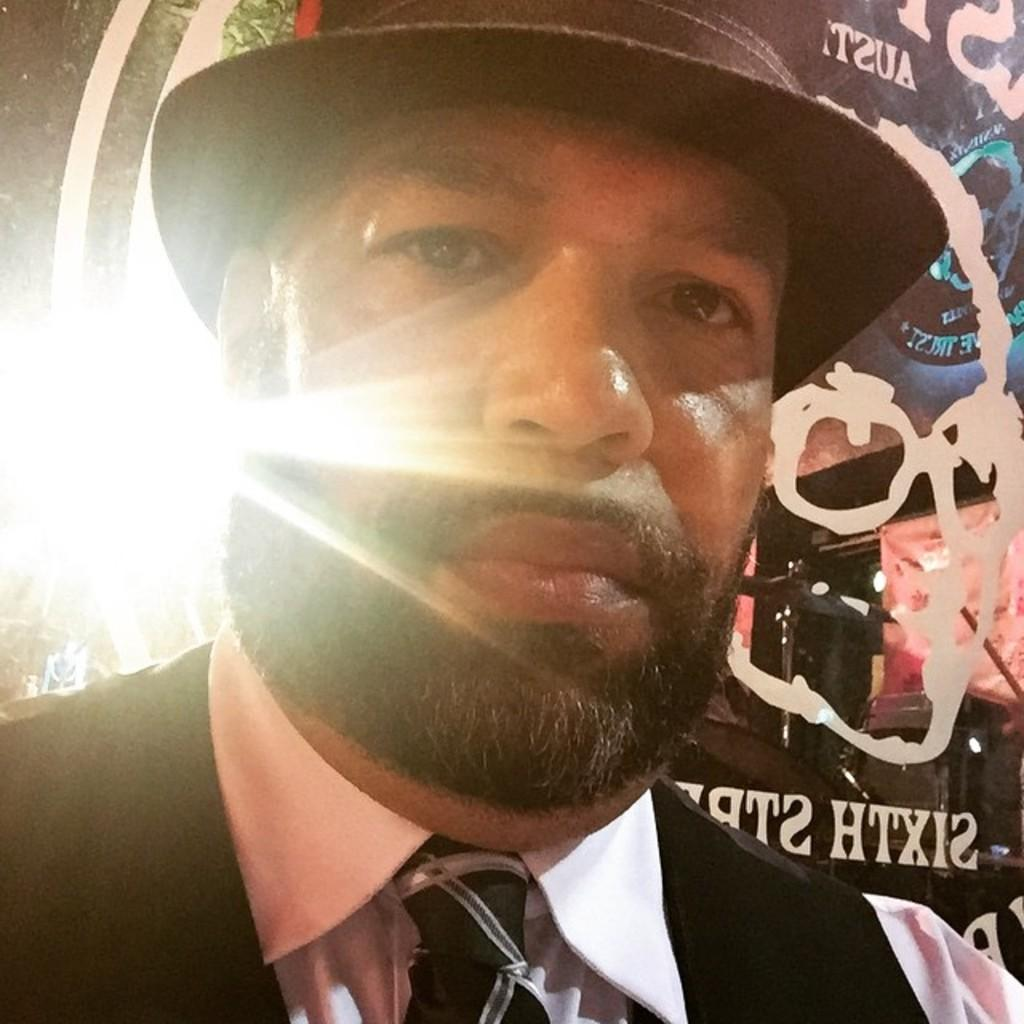Hat: (152, 0, 950, 404)
